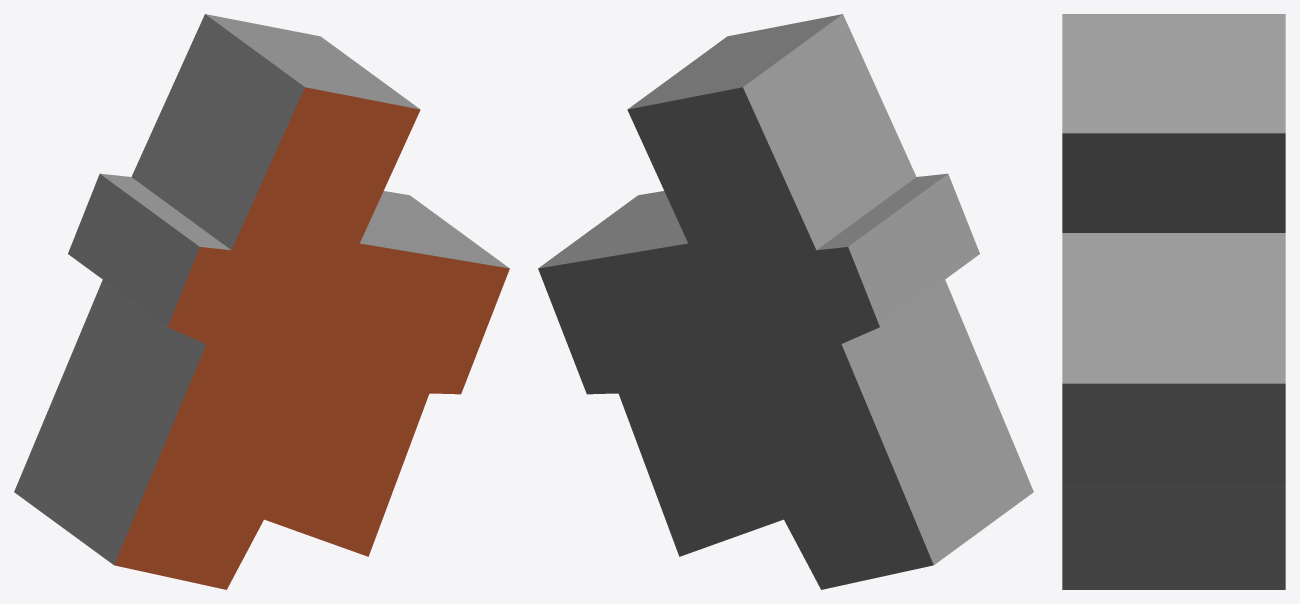
The model's file is construction_4734_assumed_A_Casa_h6m.obj.
3 renders of one model, left to right at view 1: azimuth 30°, elevation 25°; view 2: azimuth 150°, elevation 25°; view 3: azimuth 270°, elevation 25°, orthographic. The views are drawn at different scales.
Visible parts, largest first — view 1: construction_4734_assumed_A_Casa; view 2: construction_4734_assumed_A_Casa; view 3: construction_4734_assumed_A_Casa.
Boxes of the visible parts, left/top/right/bottom form: construction_4734_assumed_A_Casa: left=14, top=14, right=509, bottom=589; construction_4734_assumed_A_Casa: left=538, top=14, right=1033, bottom=589; construction_4734_assumed_A_Casa: left=1062, top=14, right=1285, bottom=589.
Bounding box in the file's own units: 13.7 × 16.05 × 6.
